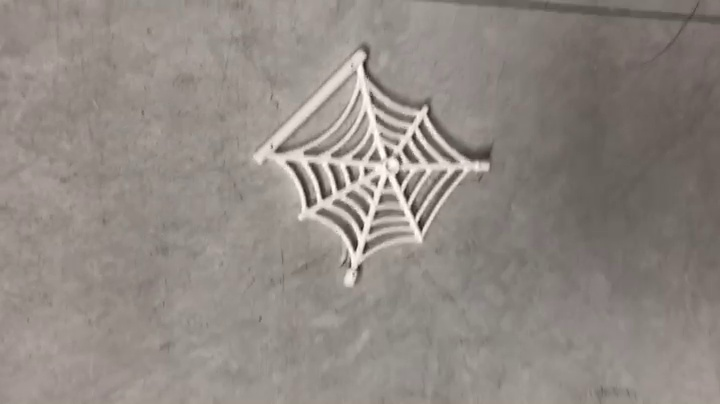web: (252, 45, 494, 291)
